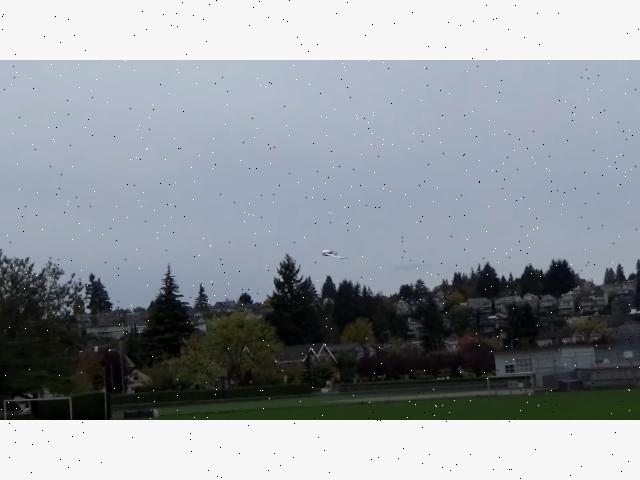Anti-Drone: (323, 250, 349, 258)
